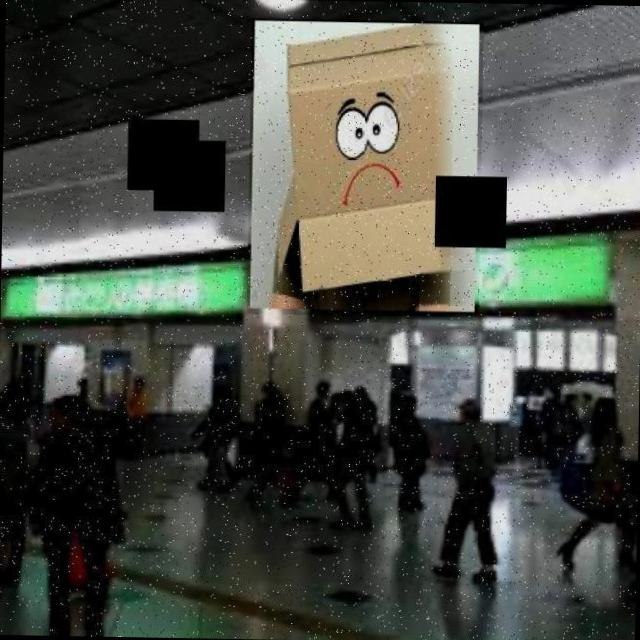box: (246, 18, 483, 319)
